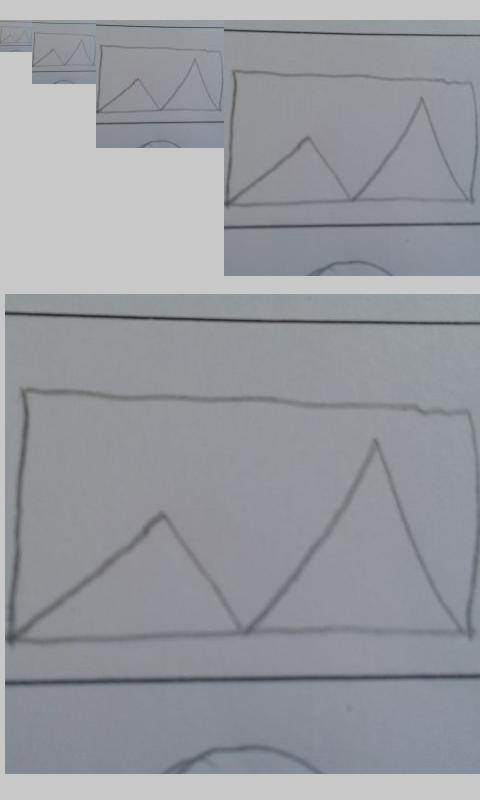image_view: (8, 387, 476, 653), (228, 68, 479, 209), (97, 43, 225, 116), (33, 31, 96, 68), (1, 25, 32, 44)
